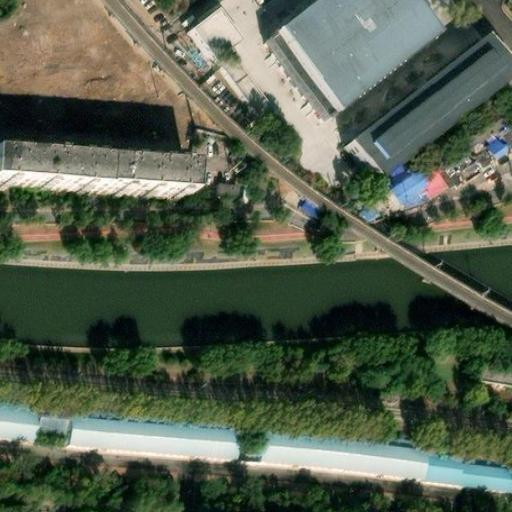building: (340, 33, 509, 177), (256, 434, 426, 481), (61, 416, 234, 461), (0, 152, 179, 194), (421, 451, 512, 493), (189, 16, 237, 66), (436, 145, 486, 191), (386, 173, 427, 214), (0, 406, 35, 446), (413, 165, 443, 197), (295, 193, 324, 220), (478, 130, 504, 158), (493, 72, 512, 108), (215, 183, 235, 198)
